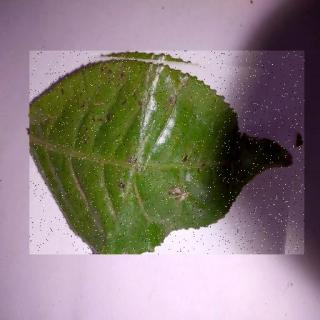Bird Eye Spot: (31, 52, 307, 256)
